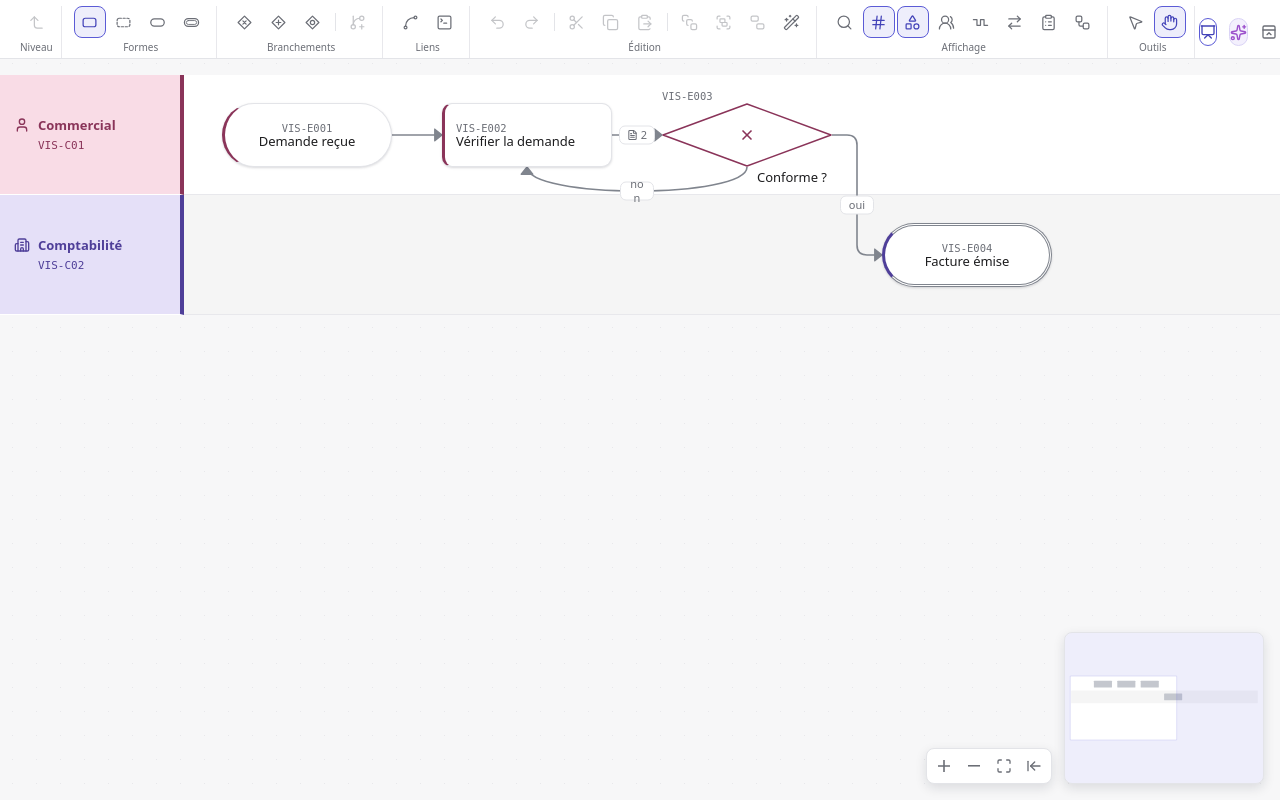
the comments read again when the field of a comment opens (R1-02, interface) › keeps the text typed before the comments read again come; the line having another text, it sends the version it showed and the host refuses it
The width and height of the screenshot is (1280, 800).
Press F5
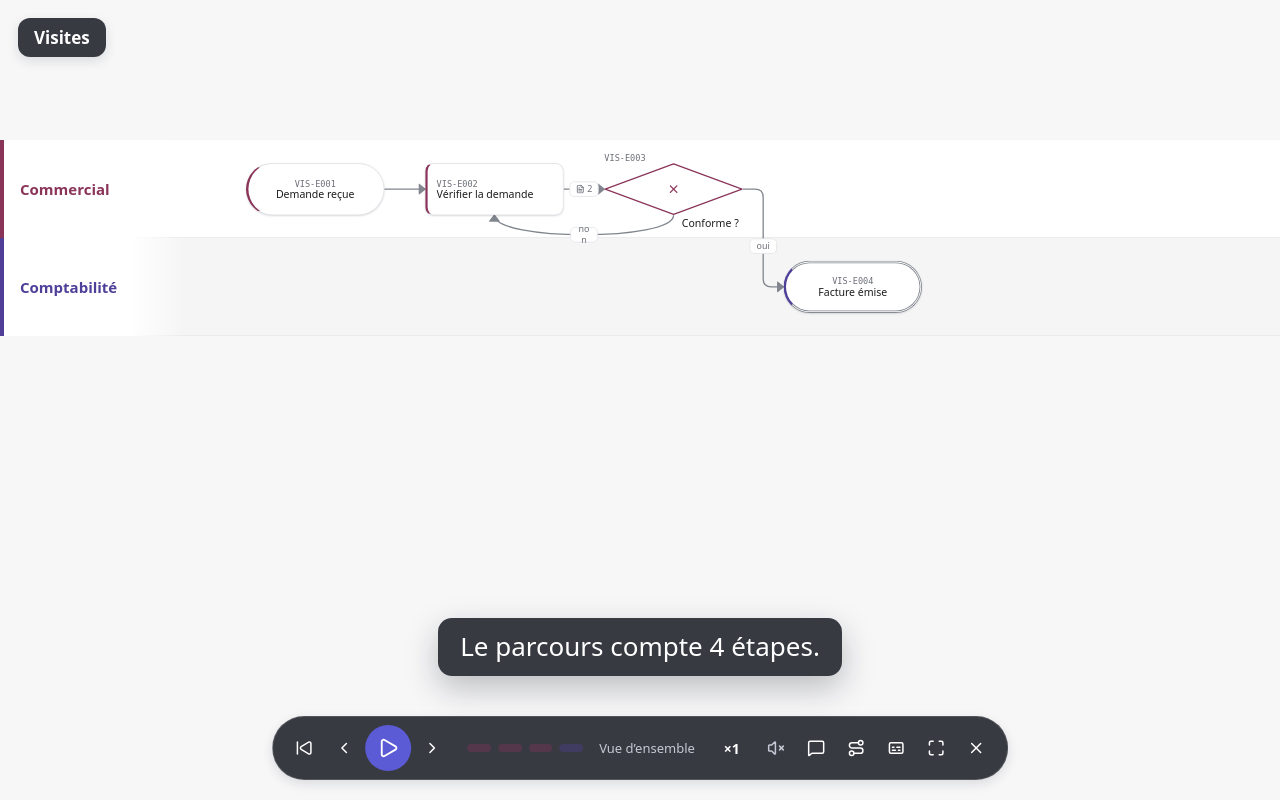
Press ArrowRight
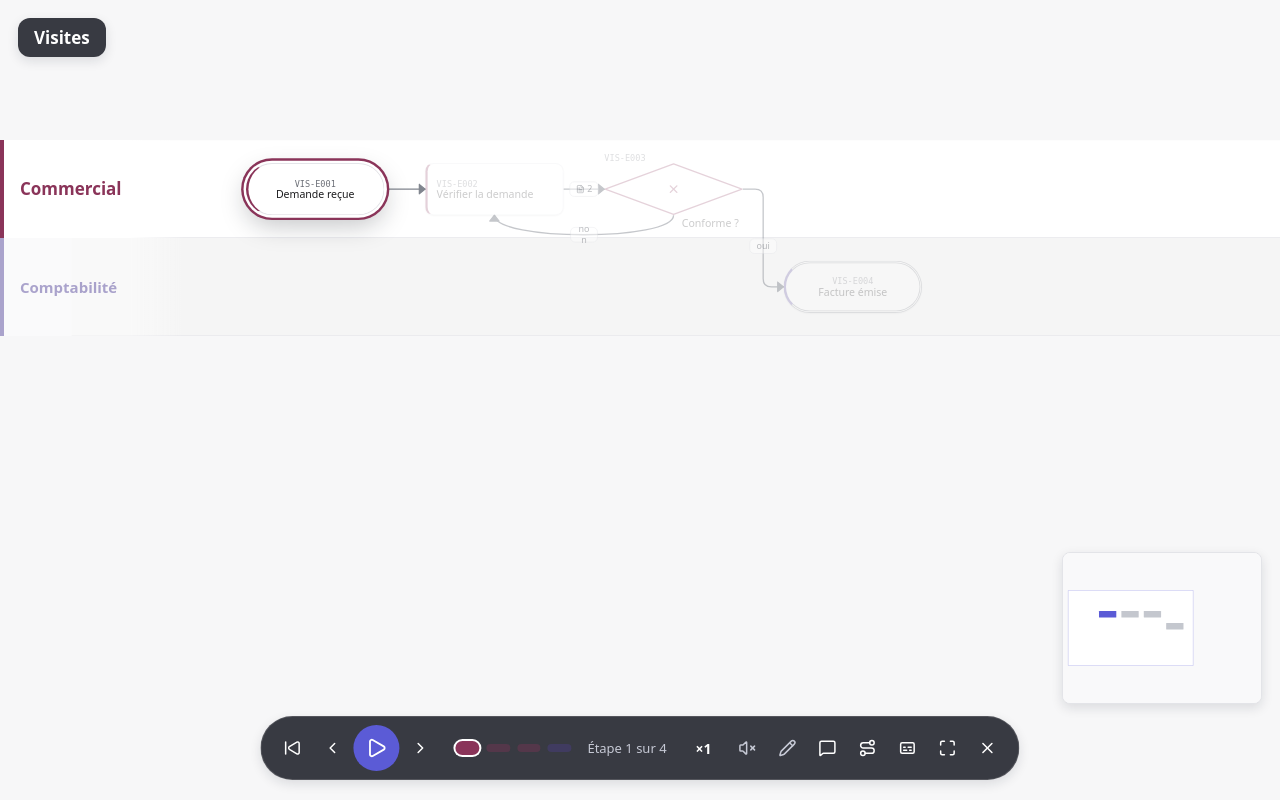
Press ArrowRight
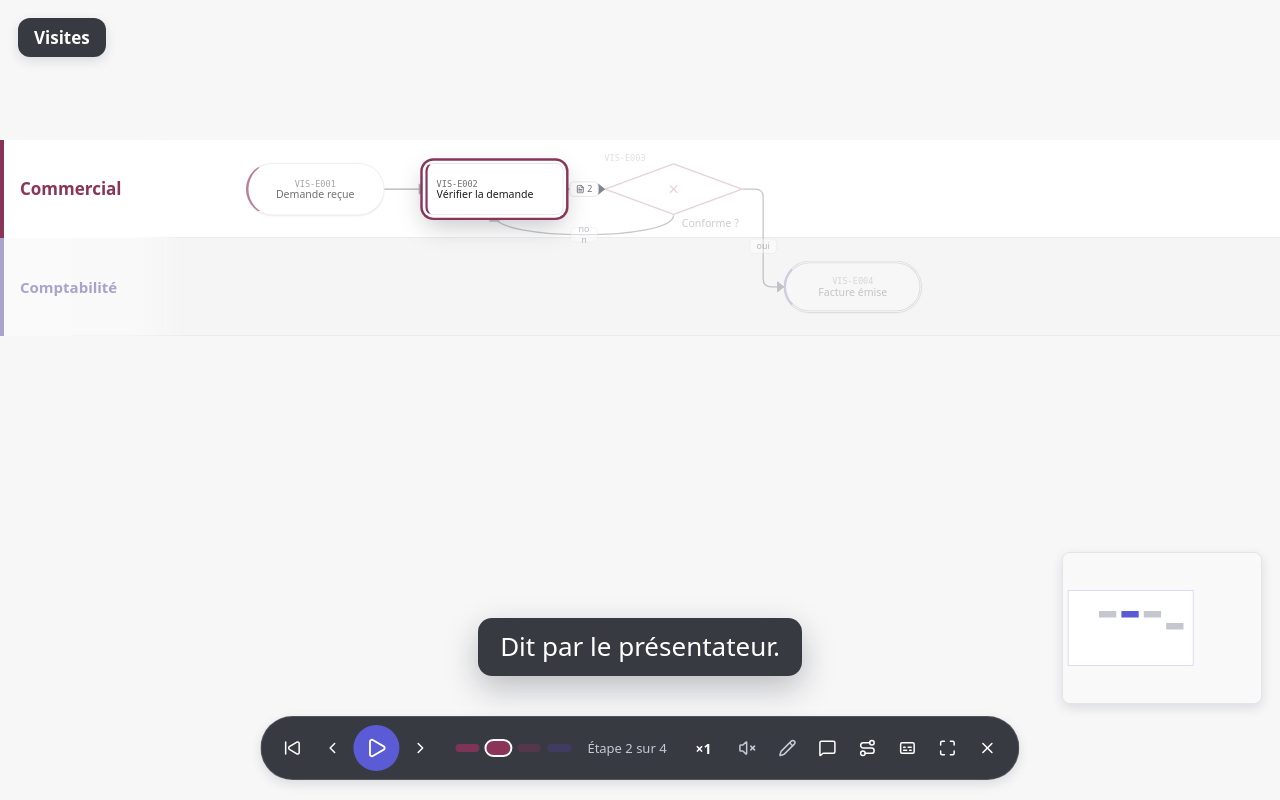
Press t
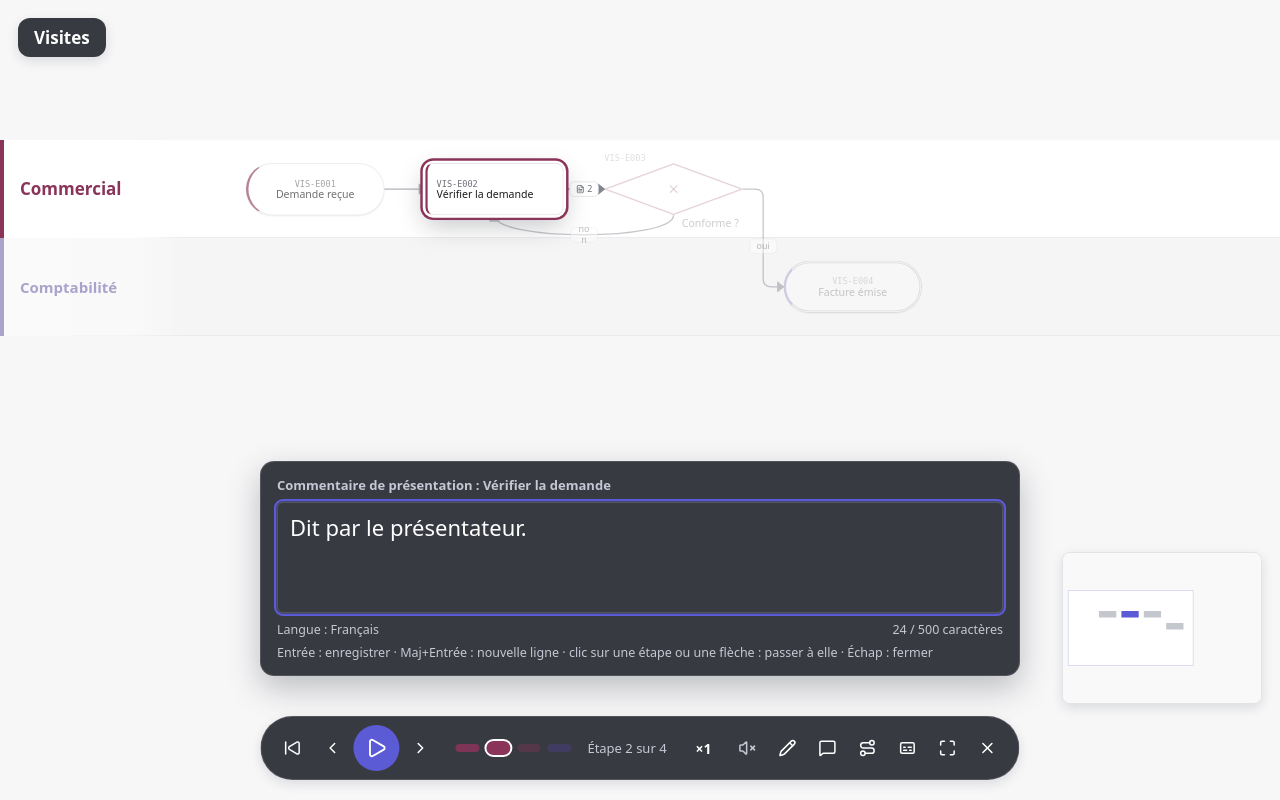
Result: the text box with test id "presenter-comment-field" holds "Dit par le présentateur."
Replace the text in the text box with test id "presenter-comment-field" with "Tapé avant la relecture." at [640, 557], box 277,502 -> 1003,613
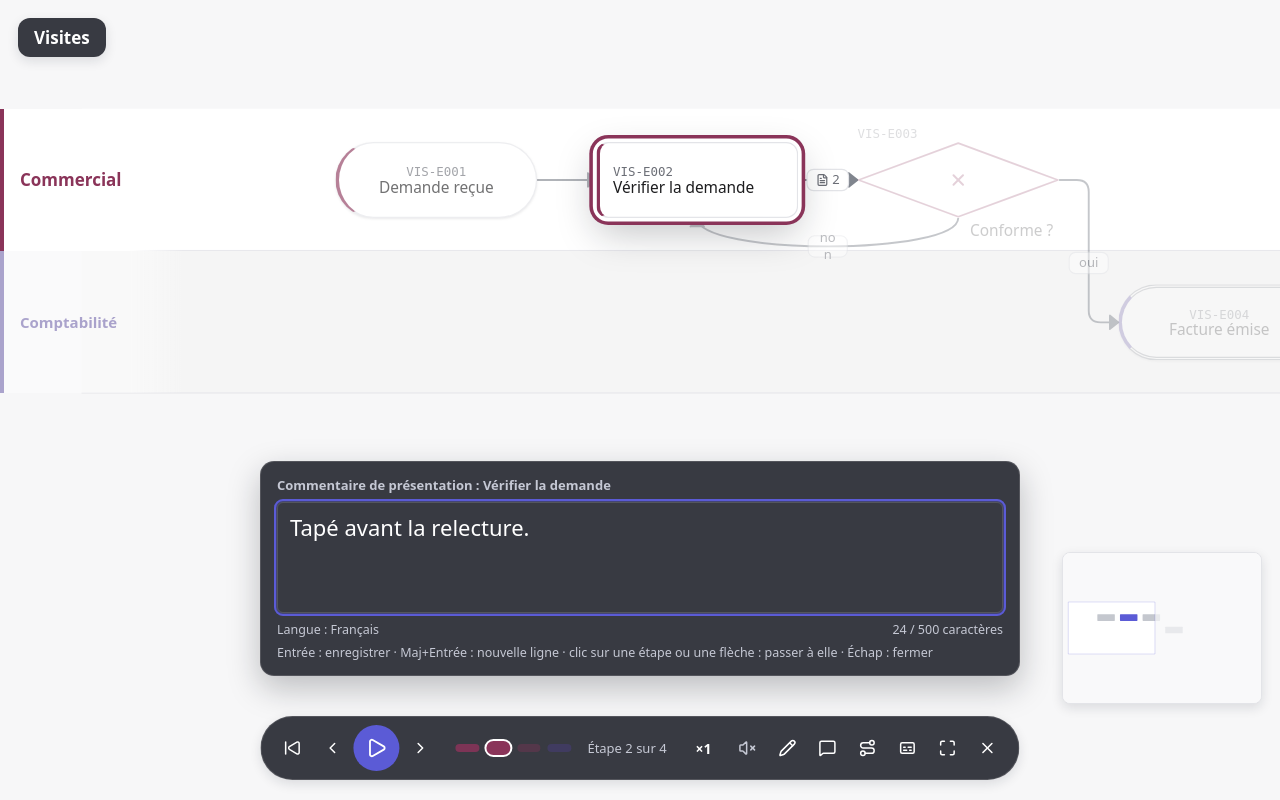
Press Enter in the text box with test id "presenter-comment-field", box 277,502 -> 1003,613
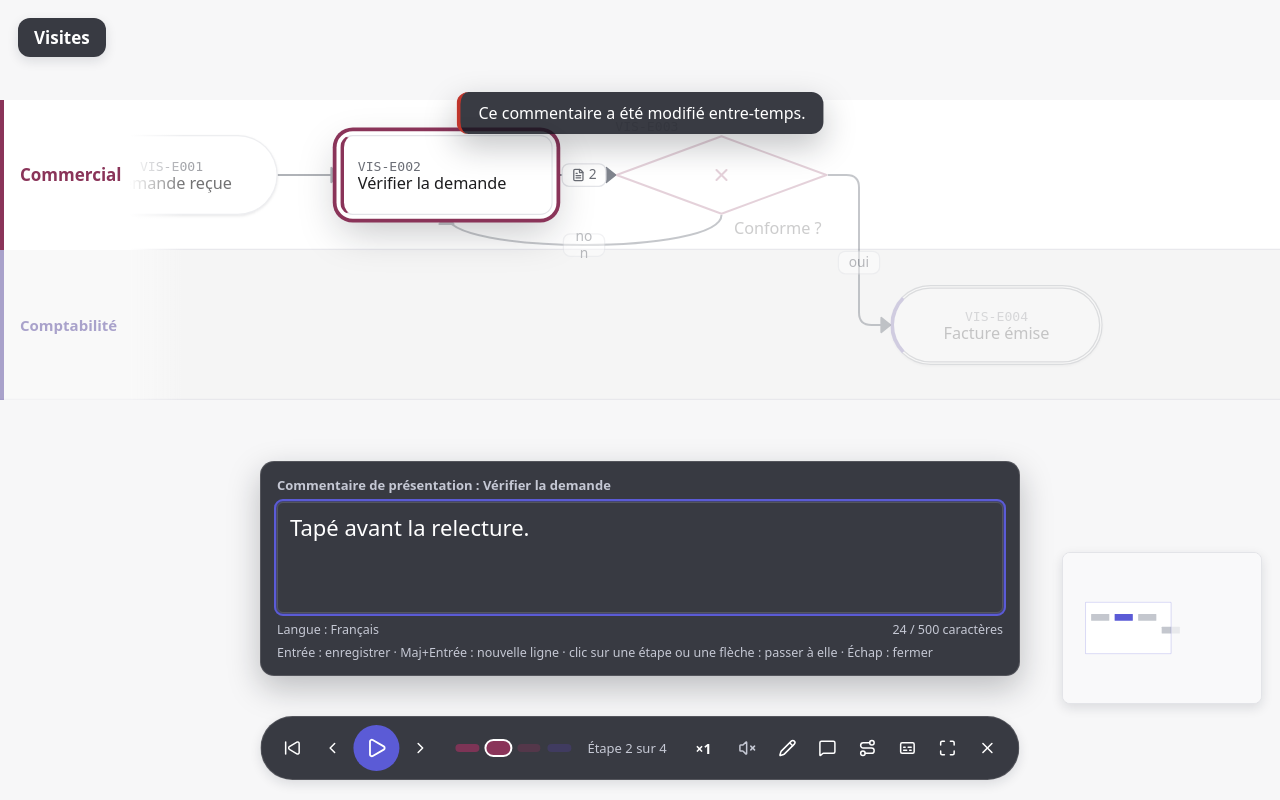
Result: the message reads "Ce commentaire a été modifié entre-temps." at 478,102 -> 806,124
